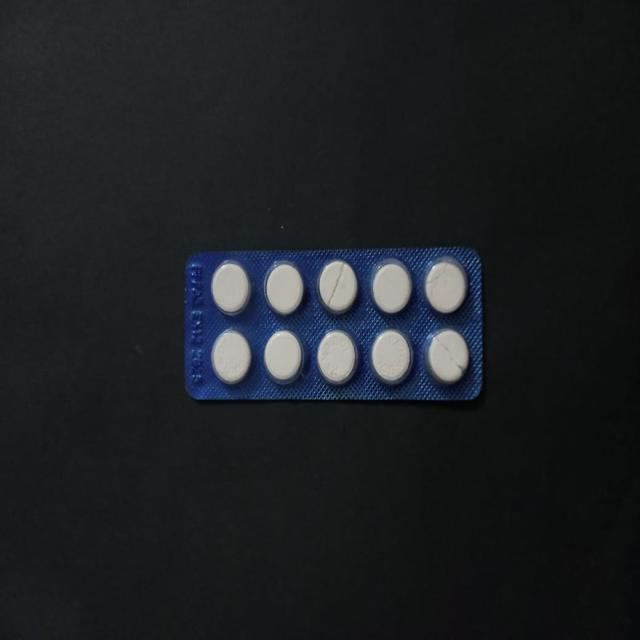defect: (420, 253, 472, 318), (423, 325, 473, 390), (316, 256, 360, 318)
